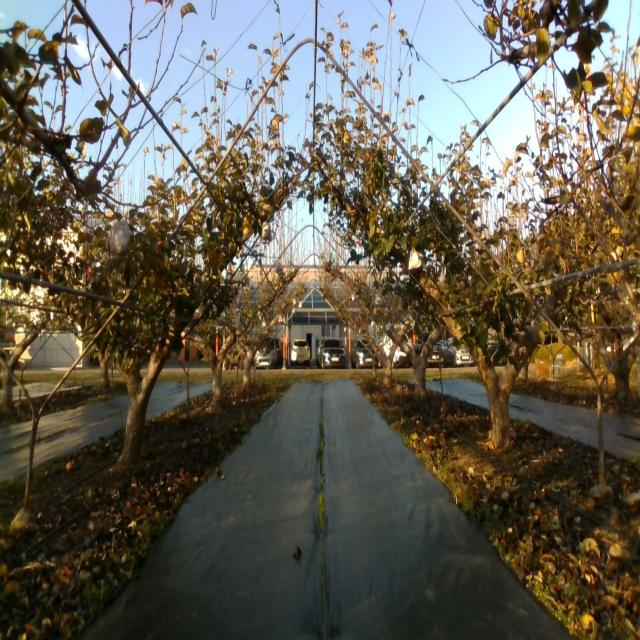pearbags: (110, 217, 130, 255), (408, 250, 421, 270), (262, 222, 272, 242)
